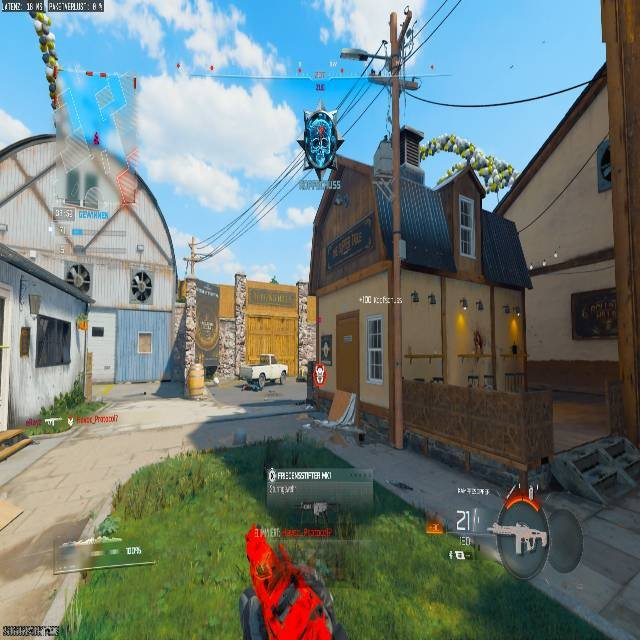player: (239, 544, 335, 639), (130, 267, 152, 305)
